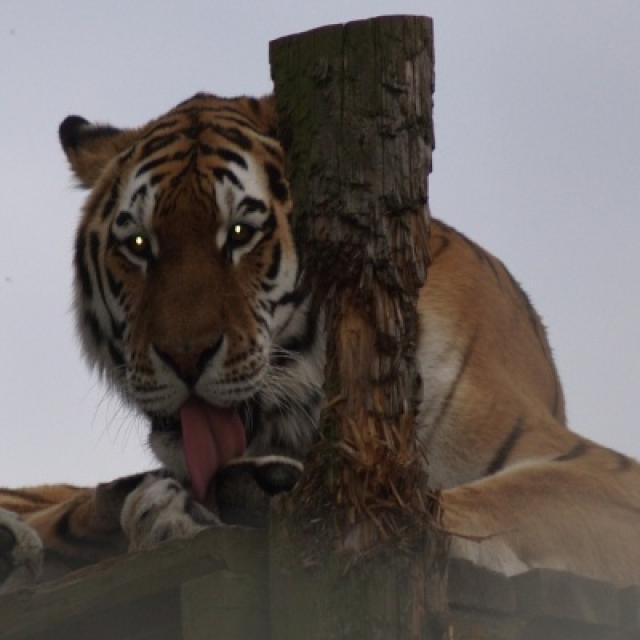Tiger: (59, 16, 638, 582), (59, 94, 323, 493)
